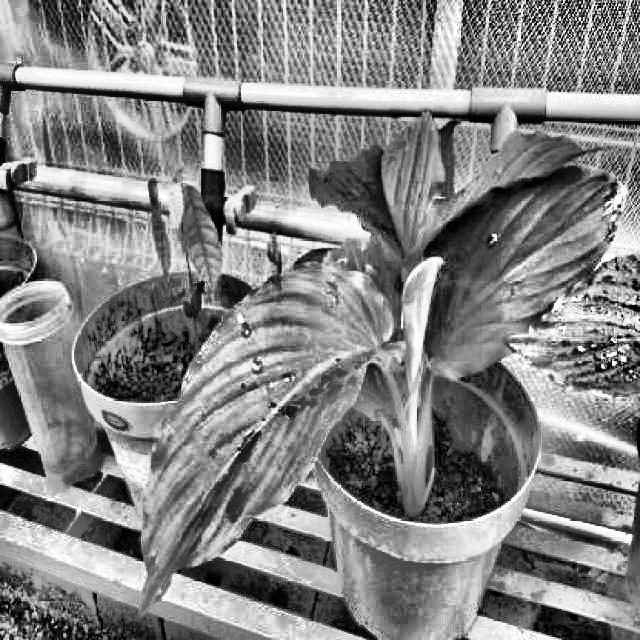plants: (130, 109, 624, 629)
